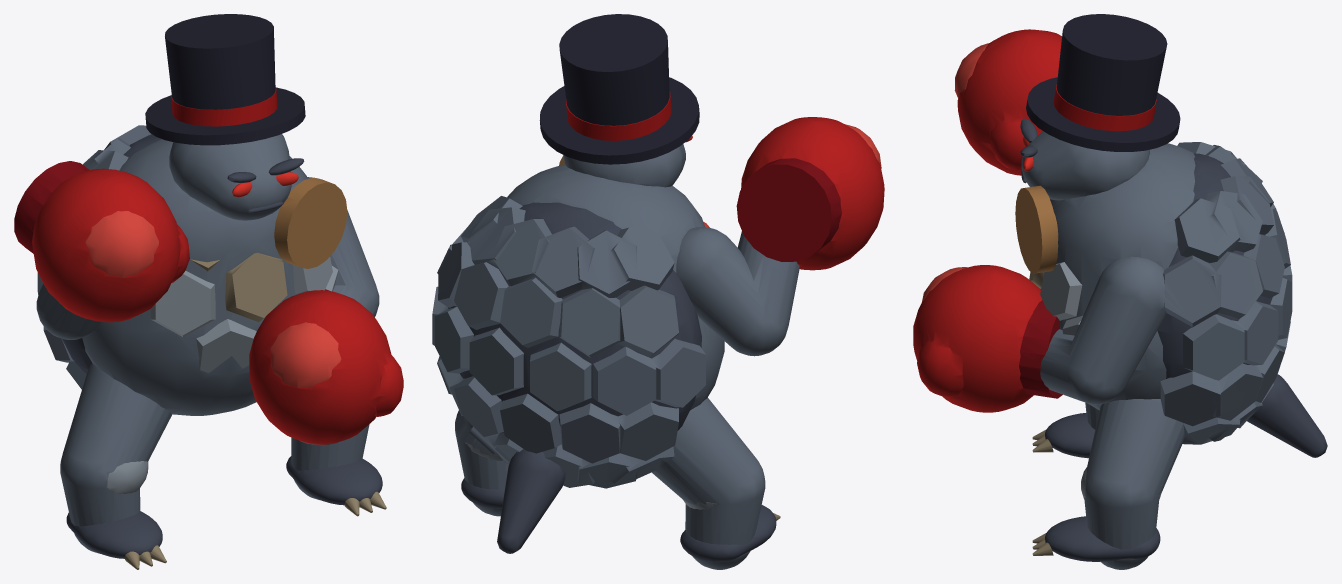
File: brookrawl.glb
The picture shows the model from 3 angles, left to right: view 1: azimuth 30°, elevation 25°; view 2: azimuth 150°, elevation 25°; view 3: azimuth 270°, elevation 25°; orthographic projection. The views are drawn at different scales.
Parts seen in each view (by area): view 1: creature; view 2: creature; view 3: creature.
Boxes of the visible parts, box(x1,y1,x2,y2) form: creature: box(14, 14, 403, 569); creature: box(432, 14, 884, 569); creature: box(913, 14, 1327, 569).
Bounding box in the file's own units: 0.7679 × 1 × 0.7757.
